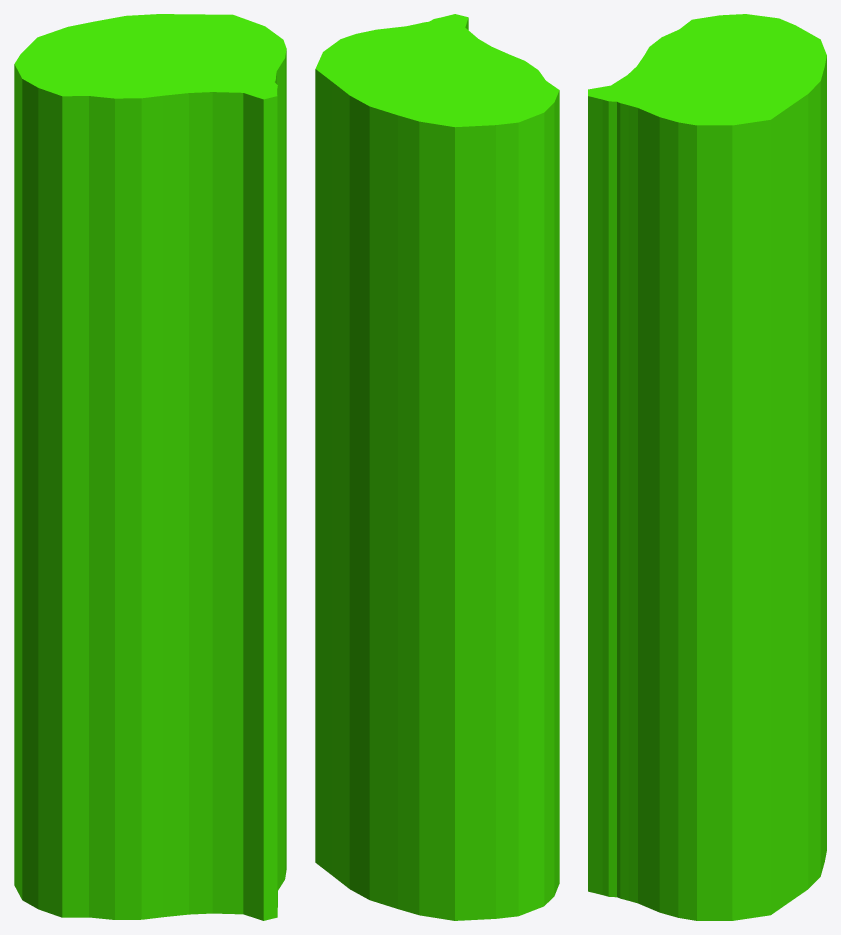
File: wood_area0100.dae
The picture shows the model from 3 angles, left to right: view 1: azimuth 30°, elevation 25°; view 2: azimuth 150°, elevation 25°; view 3: azimuth 270°, elevation 25°; orthographic projection. The views are drawn at different scales.
Visible parts, largest first — view 1: Object_016; view 2: Object_016; view 3: Object_016.
Part boxes in pixels (x1,y1,x2,y2): Object_016: [14, 14, 286, 920]; Object_016: [315, 14, 559, 920]; Object_016: [588, 14, 826, 920].
Size of the model in its own units: 111 by 101 by 370.
